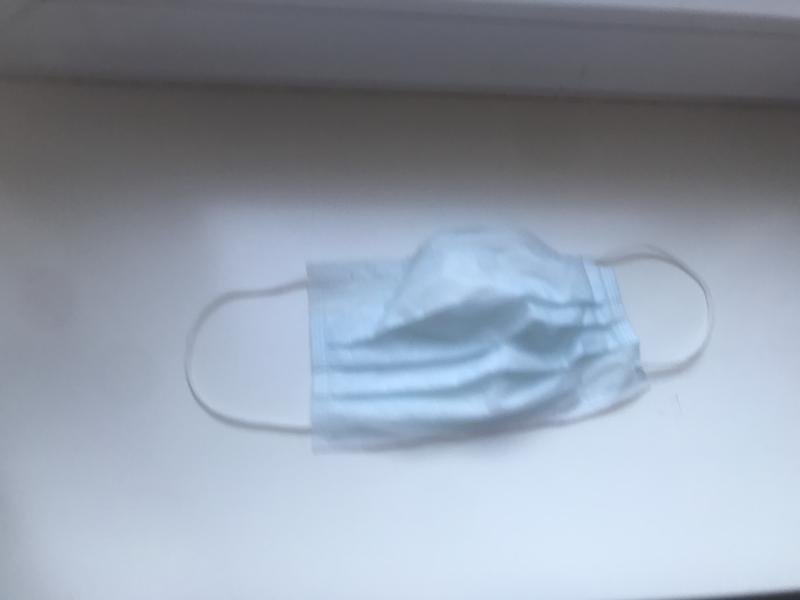medical_mask: (182, 242, 716, 448)
